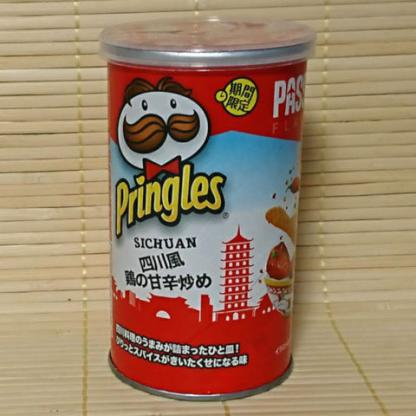potatochip: (89, 11, 324, 408)
